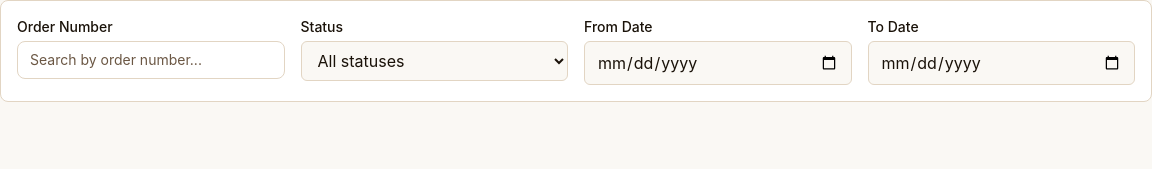
Test: OrderFilters › shows clear filters button when filters are applied
In the field with placeholder "Search by order number...": (151, 60) [17,41,284,79], type "ORD-001"
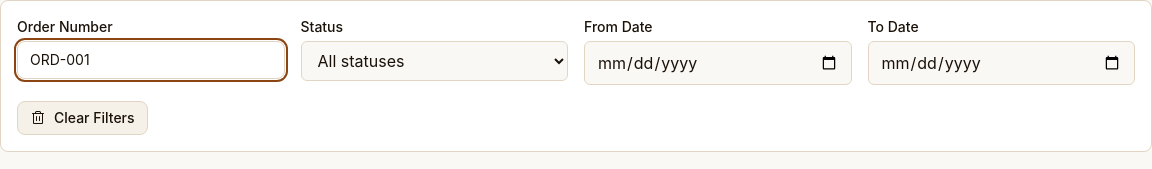
Now the button "Clear Filters" is shown, box [17,101,148,135]
